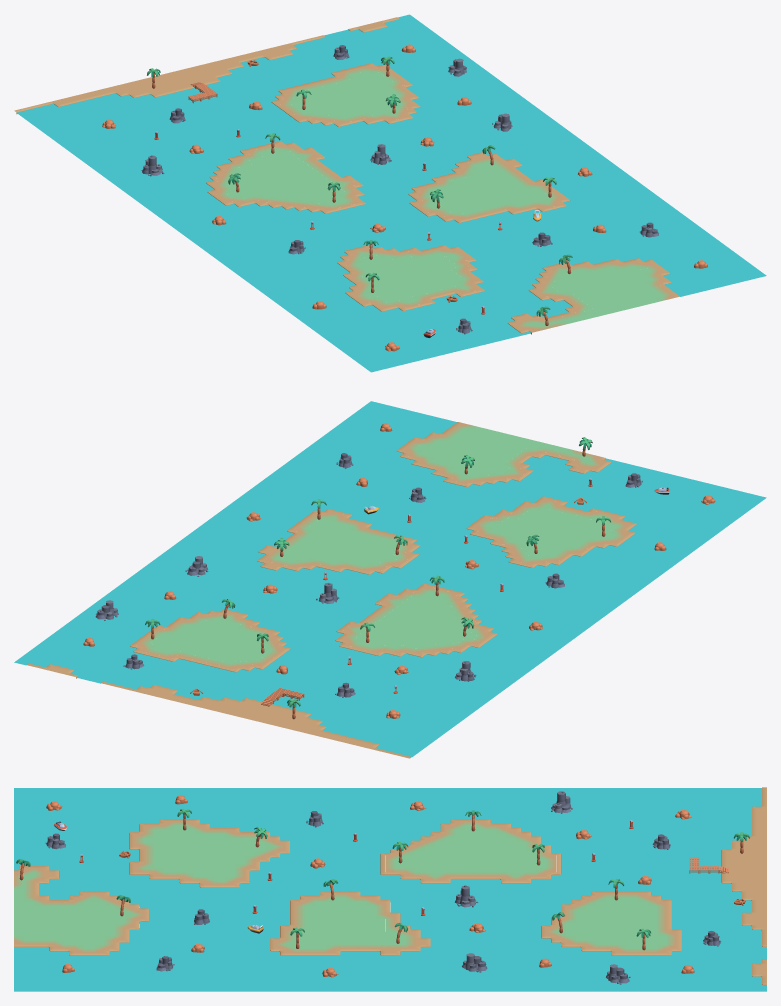
File: Ocean-transformed.glb
3 views of the same model, one above another, from view 1: azimuth 30°, elevation 25°; view 2: azimuth 150°, elevation 25°; view 3: azimuth 270°, elevation 25° (orthographic). The views are drawn at different scales.
Parts seen in each view (by area): view 1: square_sand_waterInnerCorner2; view 2: square_sand_waterInnerCorner2; view 3: square_sand_waterInnerCorner2, structure-floor3.
Part boxes in pixels (x1=…): square_sand_waterInnerCorner2: x1=14, y1=14, x2=766, y2=372; square_sand_waterInnerCorner2: x1=14, y1=401, x2=766, y2=758; square_sand_waterInnerCorner2: x1=14, y1=787, x2=766, y2=991; structure-floor3: x1=689, y1=857, x2=728, y2=873.
Size of the model in its own units: 96 by 6.19 by 150.
Materials: 7 (4 with a texture image).
